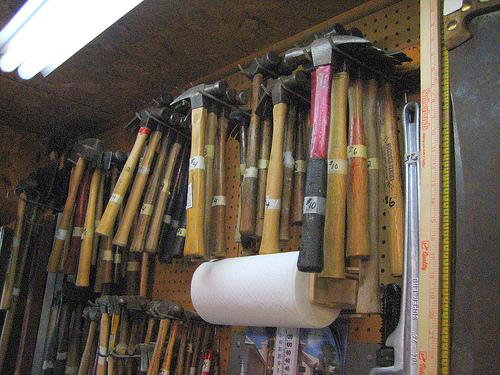hammer: (282, 32, 369, 274), (168, 79, 228, 258), (252, 69, 307, 253), (94, 104, 168, 237), (142, 298, 182, 374), (90, 292, 120, 374)
